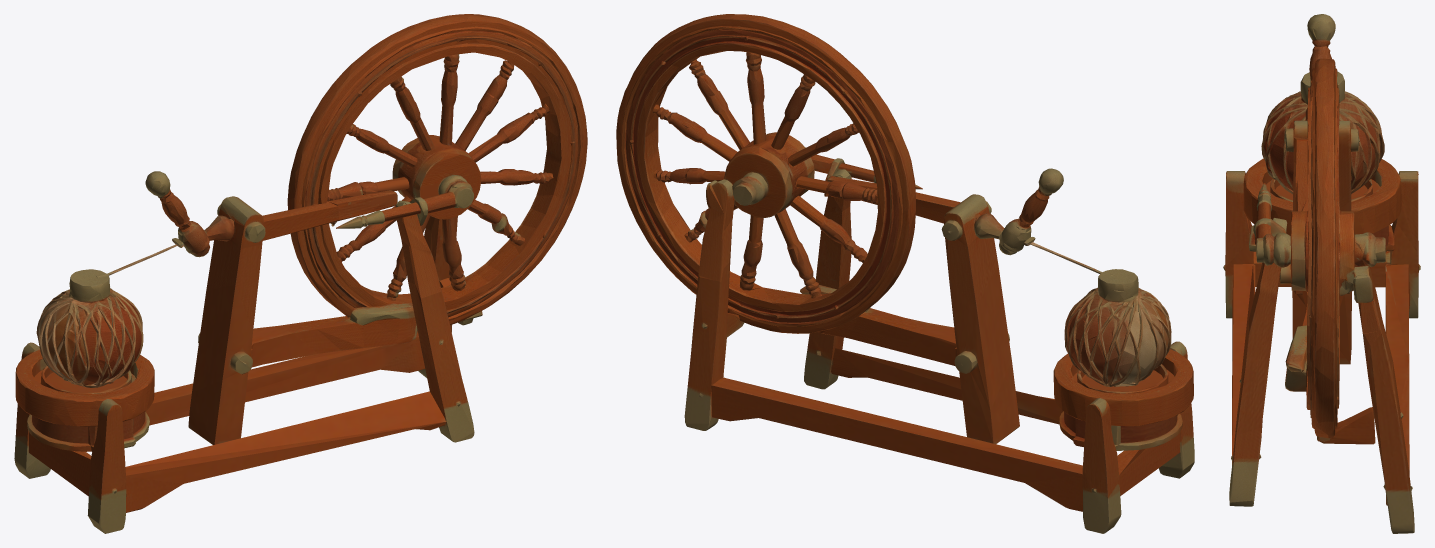
The model's file is PROP_SPINNING_WHEEL_001.glb.
3 renders of one model, left to right at view 1: azimuth 30°, elevation 25°; view 2: azimuth 150°, elevation 25°; view 3: azimuth 270°, elevation 25°, orthographic. The views are drawn at different scales.
Size of the model in its own units: 1.9 by 1.26 by 0.516.
1 material, 1 textured.
